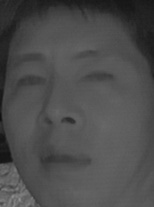eye: (78, 68, 115, 88), (11, 73, 49, 91)
mouth: (34, 141, 94, 177)
